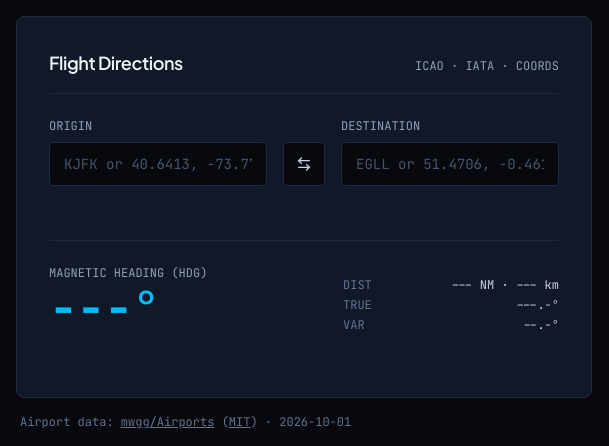
Test: App › shows the input hint for unrecognised location input
This screenshot has width=609, height=446.
Type "hello world" into the field labelled "ORIGIN" at x=158, y=164, box [49,142,267,186]
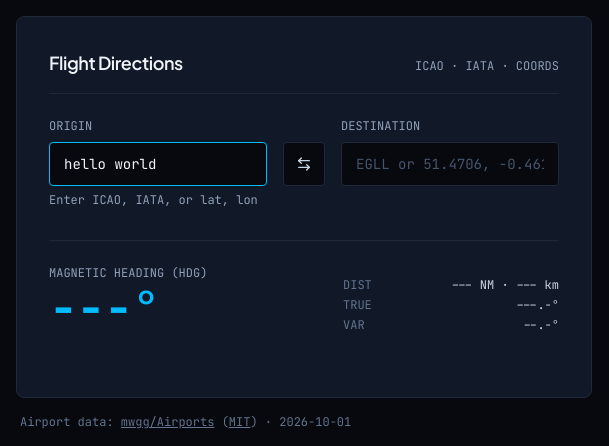
Check: the text "Enter ICAO, IATA, or lat, lon" is shown, box [49,192,267,208]
